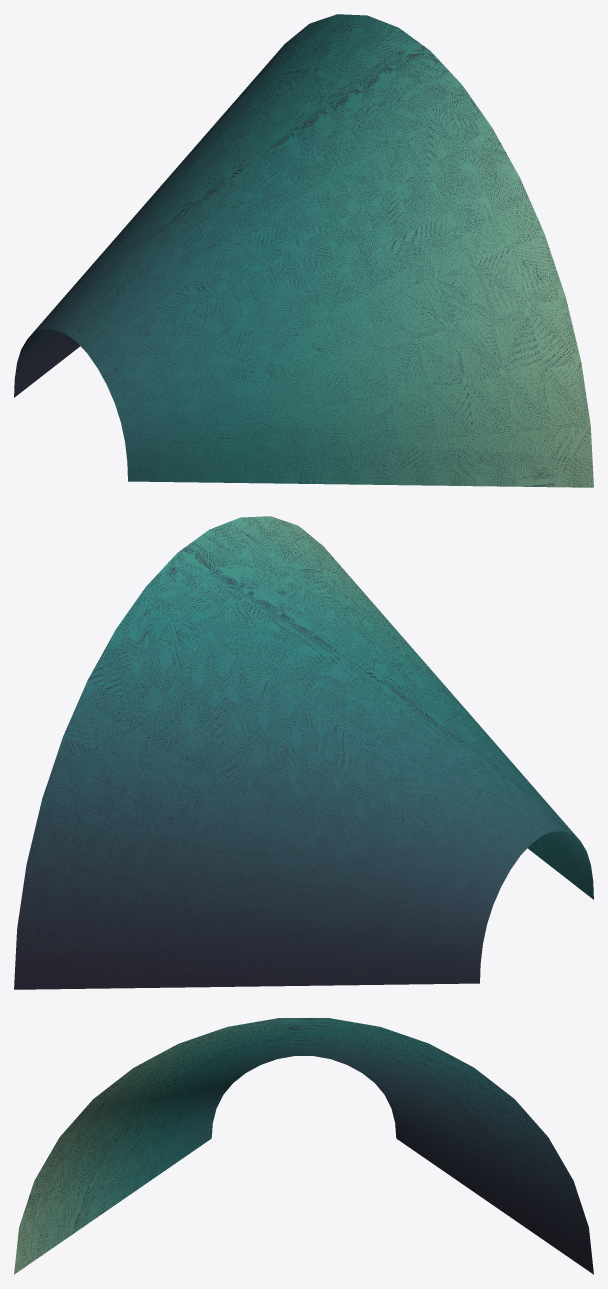
File: y=sqrt(k^2-x^2) knegativo recorrido.fbx
The picture shows the model from 3 angles, top to bottom: view 1: azimuth 30°, elevation 25°; view 2: azimuth 150°, elevation 25°; view 3: azimuth 270°, elevation 25°; orthographic projection. The views are drawn at different scales.
Visible parts, largest first — view 1: polySurface1; view 2: polySurface1; view 3: polySurface1.
Part boxes in pixels (left/top/right/bottom): polySurface1: left=14, top=14, right=593, bottom=487; polySurface1: left=14, top=516, right=593, bottom=989; polySurface1: left=14, top=1018, right=593, bottom=1274.
Bounding box in the file's own units: 11.08 × 9.77 × 20.
